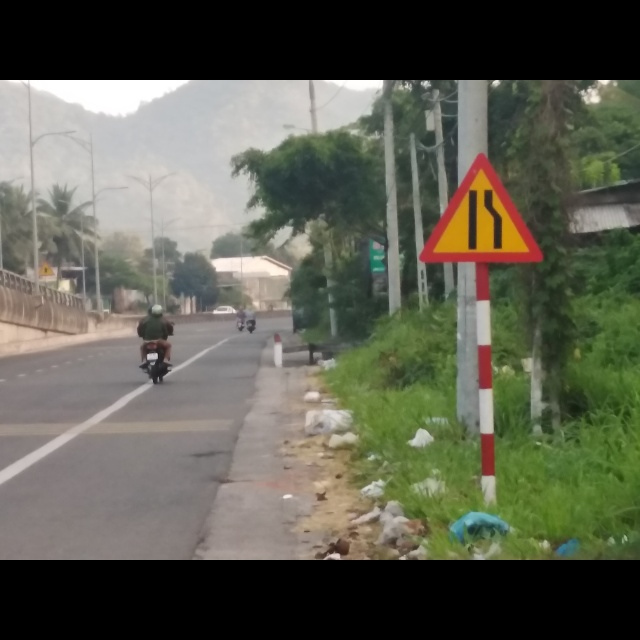Đường bị hẹp bên phải: (419, 152, 544, 265)
